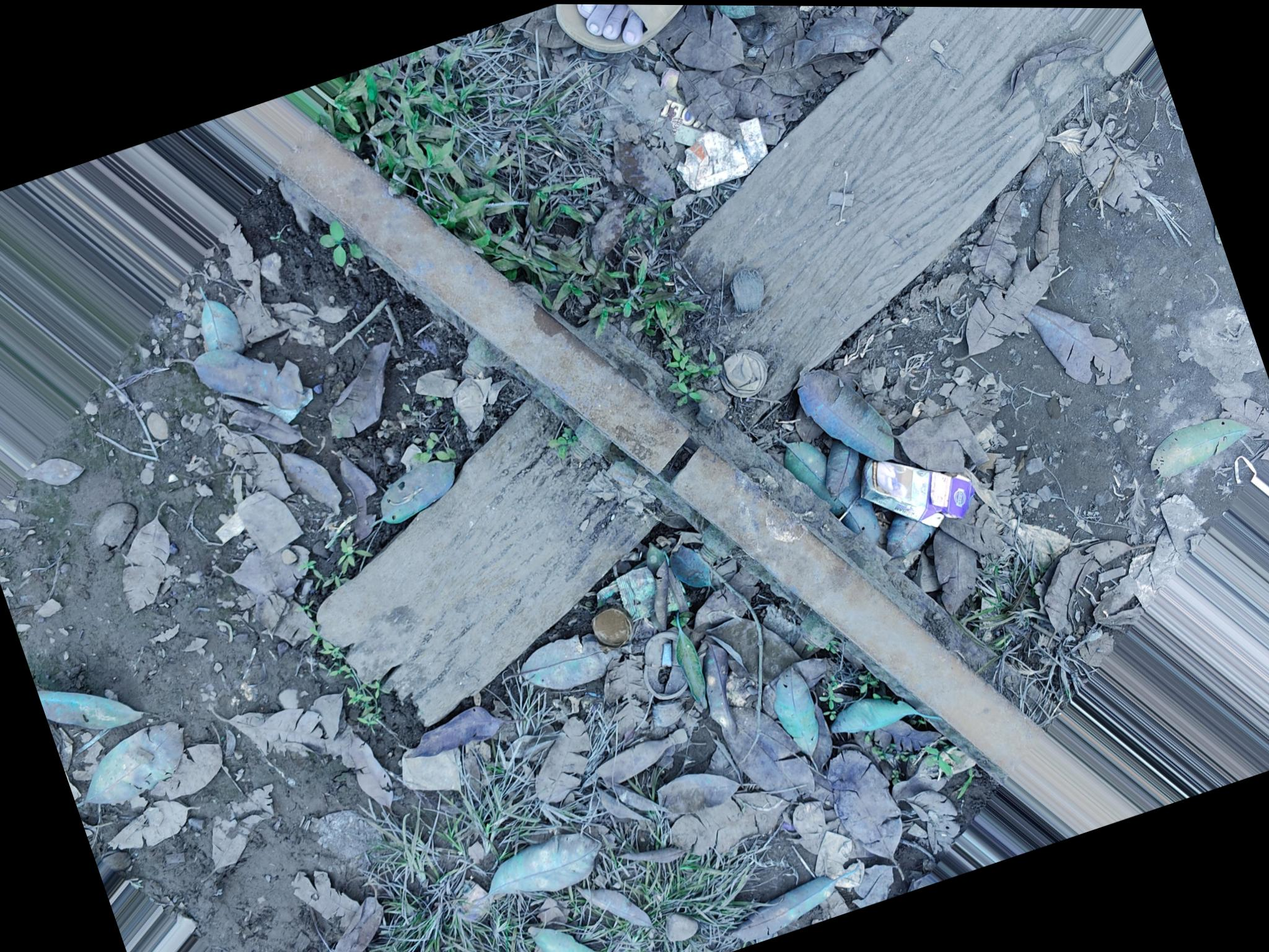person: (599, 382, 758, 542)
